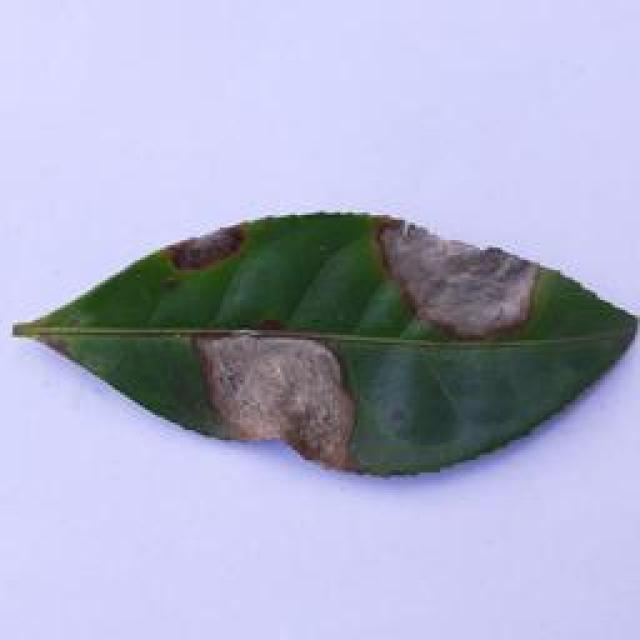Gray Blight: (12, 205, 640, 480)
